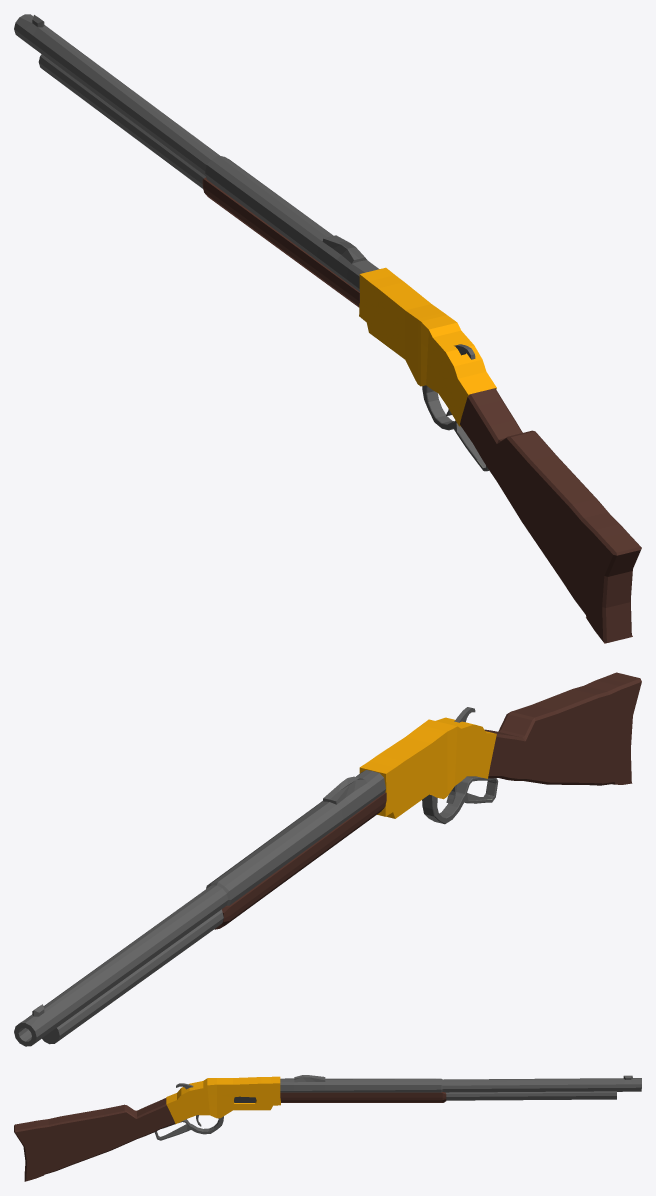
File: repeater.fbx
3 renders of one model, top to bottom at view 1: azimuth 30°, elevation 25°; view 2: azimuth 150°, elevation 25°; view 3: azimuth 270°, elevation 25°, orthographic. The views are drawn at different scales.
Visible parts, largest first — view 1: Stock, Barrle, Frame, Holding, BulletChamber, Lever; view 2: Stock, Barrle, Frame, Holding, BulletChamber, Lever; view 3: Stock, Barrle, Frame, Holding, BulletChamber, Lever.
Boxes of the visible parts, x1=… form: Stock: x1=460, y1=388, x2=641, y2=643; Barrle: x1=14, y1=14, x2=379, y2=291; Frame: x1=359, y1=267, x2=496, y2=426; Holding: x1=202, y1=177, x2=359, y2=307; BulletChamber: x1=38, y1=54, x2=205, y2=188; Lever: x1=422, y1=385, x2=488, y2=471; Stock: x1=485, y1=672, x2=641, y2=785; Barrle: x1=14, y1=770, x2=385, y2=1046; Frame: x1=359, y1=717, x2=496, y2=818; Holding: x1=214, y1=792, x2=386, y2=929; BulletChamber: x1=42, y1=909, x2=223, y2=1044; Lever: x1=422, y1=776, x2=498, y2=824; Stock: x1=14, y1=1098, x2=175, y2=1181; Barrle: x1=280, y1=1075, x2=641, y2=1092; Frame: x1=166, y1=1076, x2=280, y2=1123; Holding: x1=280, y1=1092, x2=446, y2=1102; BulletChamber: x1=446, y1=1091, x2=616, y2=1100; Lever: x1=154, y1=1116, x2=223, y2=1140.
Bounding box in the file's own units: 24.2 × 159 × 884.
1 material, 1 textured.
